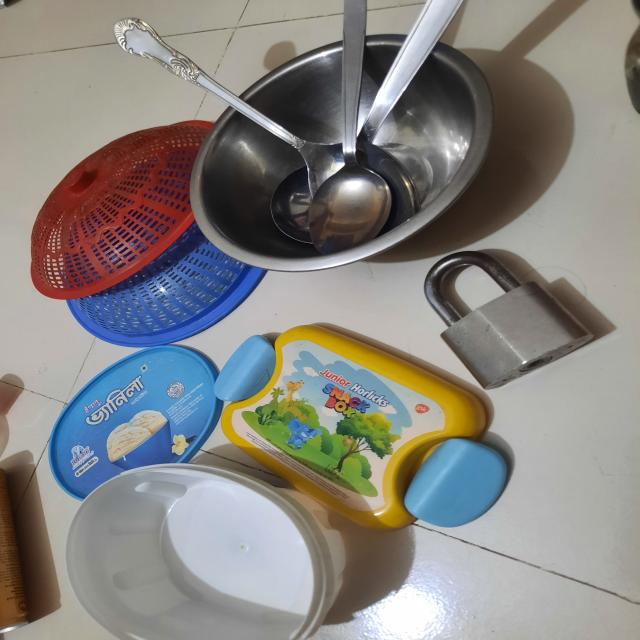Metal: (203, 8, 520, 289), (420, 266, 579, 386)
Plastics: (26, 344, 497, 635), (17, 125, 213, 332)
